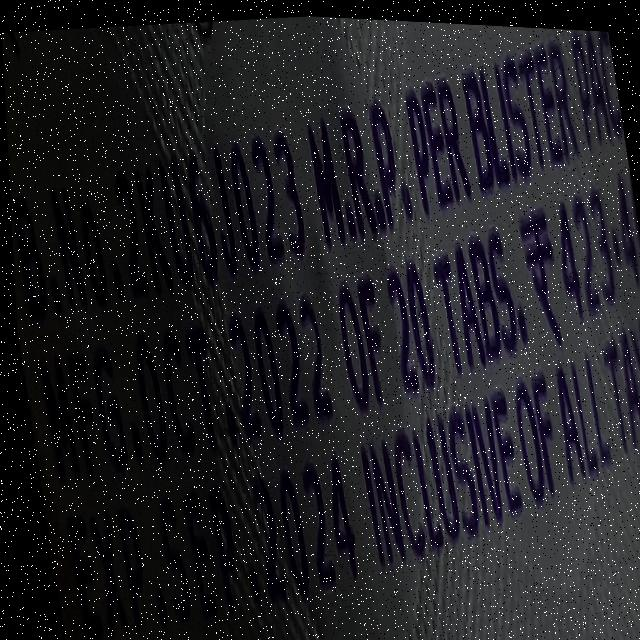sentence: (8, 24, 623, 325), (148, 352, 606, 640), (326, 162, 640, 422), (17, 273, 332, 516), (60, 502, 144, 640), (600, 307, 640, 448)
